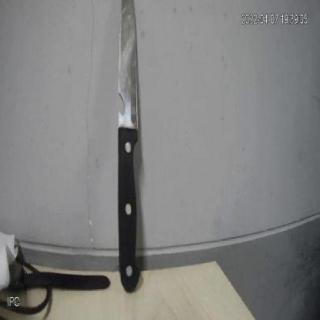knife: (110, 0, 159, 293)
